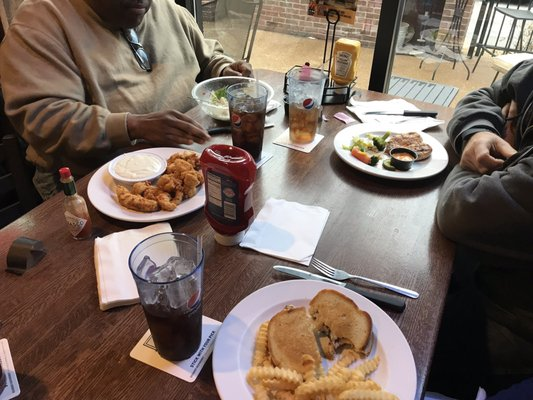burger: (275, 257, 420, 300)
pizza: (128, 232, 205, 362), (284, 62, 328, 146), (227, 82, 271, 163)
sushi: (192, 77, 254, 123)
